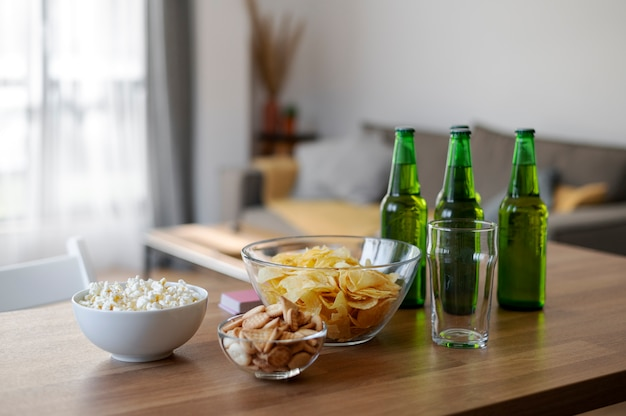alcohol: (434, 125, 486, 316), (496, 128, 550, 311), (376, 125, 428, 309)
